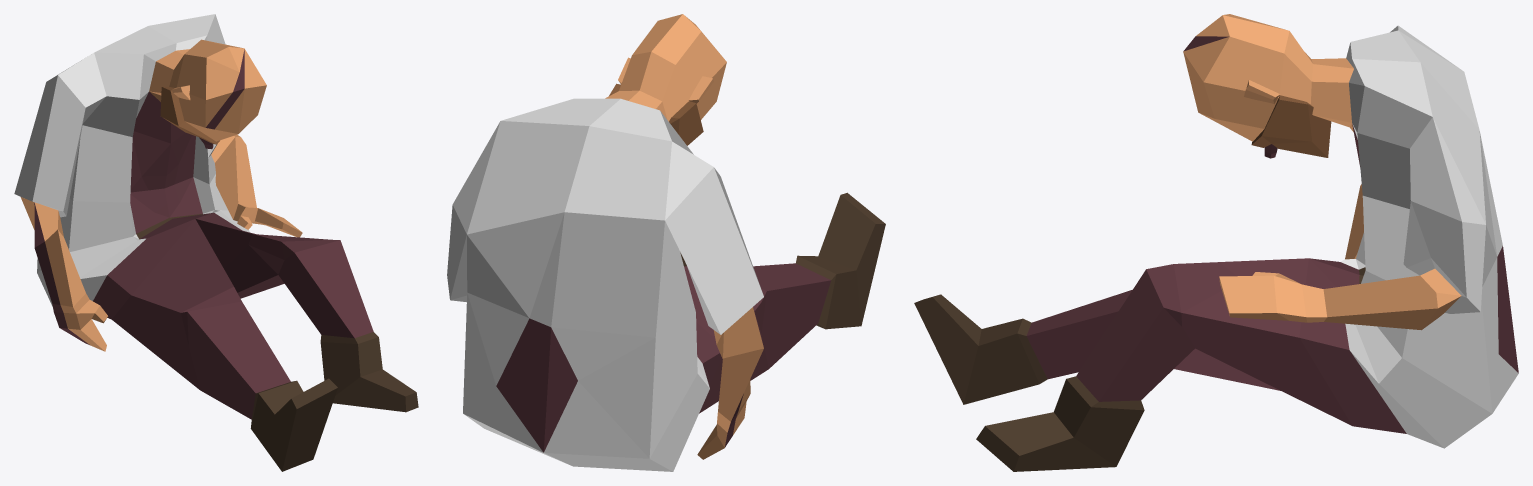
File: man-pedestrian-rival-dead-b.fbx
The picture shows the model from 3 angles, left to right: view 1: azimuth 30°, elevation 25°; view 2: azimuth 150°, elevation 25°; view 3: azimuth 270°, elevation 25°; orthographic projection. The views are drawn at different scales.
Parts seen in each view (by area): view 1: man-pedestrian-rival-dead-b; view 2: man-pedestrian-rival-dead-b; view 3: man-pedestrian-rival-dead-b.
Boxes of the visible parts, left/top/right/bottom form: man-pedestrian-rival-dead-b: left=14, top=14, right=418, bottom=471; man-pedestrian-rival-dead-b: left=447, top=14, right=885, bottom=471; man-pedestrian-rival-dead-b: left=914, top=14, right=1518, bottom=471.
Size of the model in its own units: 0.6104 by 0.8188 by 1.09.
